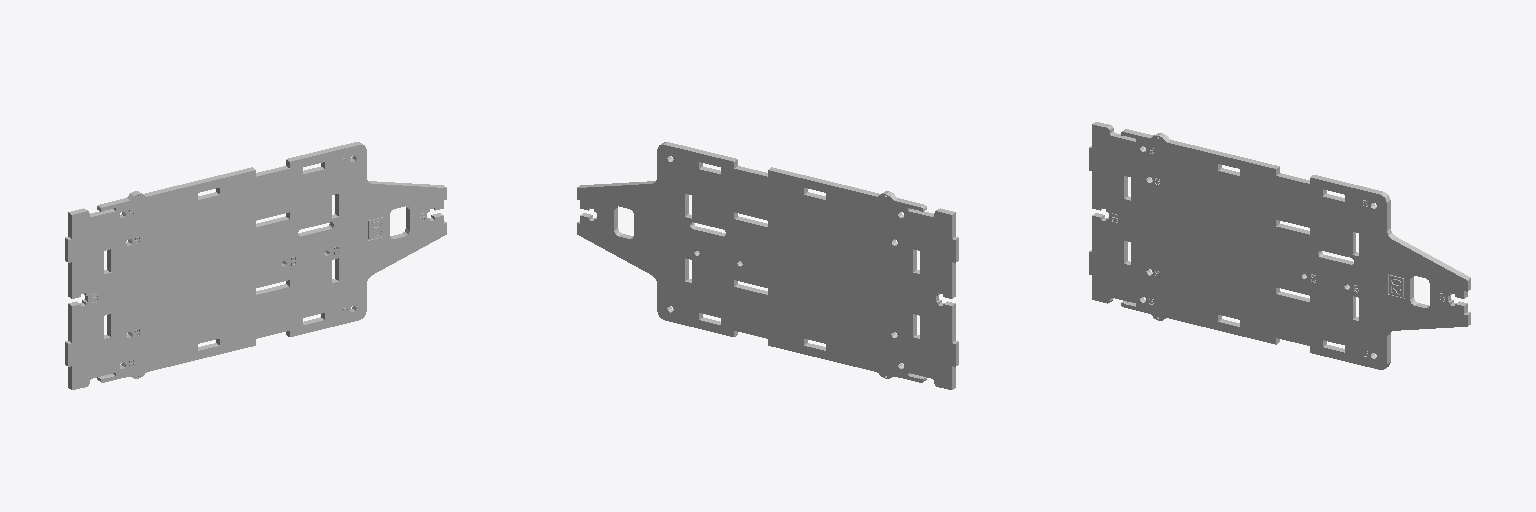
File: bottom_plate.obj
3 views of the same model, side by side, from view 1: azimuth 30°, elevation 25°; view 2: azimuth 150°, elevation 25°; view 3: azimuth 330°, elevation 25° (orthographic).
Parts seen in each view (by area): view 1: 4001-00_Bottom_Plate; view 2: 4001-00_Bottom_Plate; view 3: 4001-00_Bottom_Plate.
Part boxes in pixels (x1,y1,x2,y2): 4001-00_Bottom_Plate: (65,142,446,389); 4001-00_Bottom_Plate: (577,142,958,389); 4001-00_Bottom_Plate: (1089,122,1470,369).
Size of the model in its own units: 0.1716 by 0.08 by 0.003.